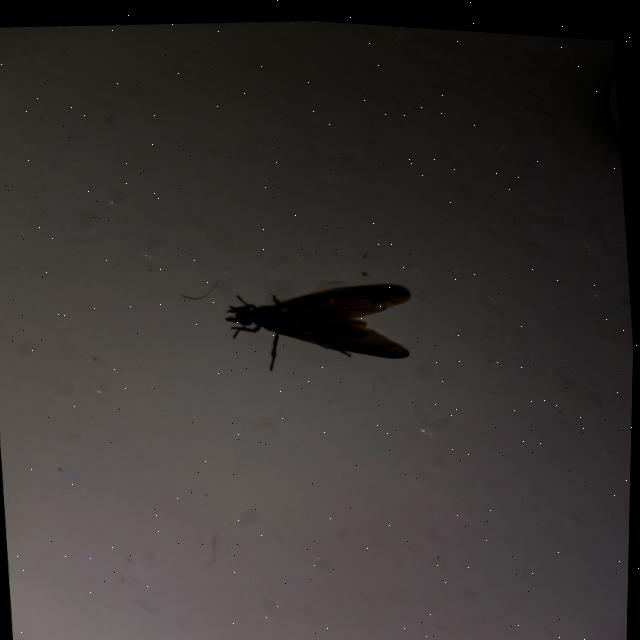Alive-Female-Alate: (222, 270, 418, 378)
